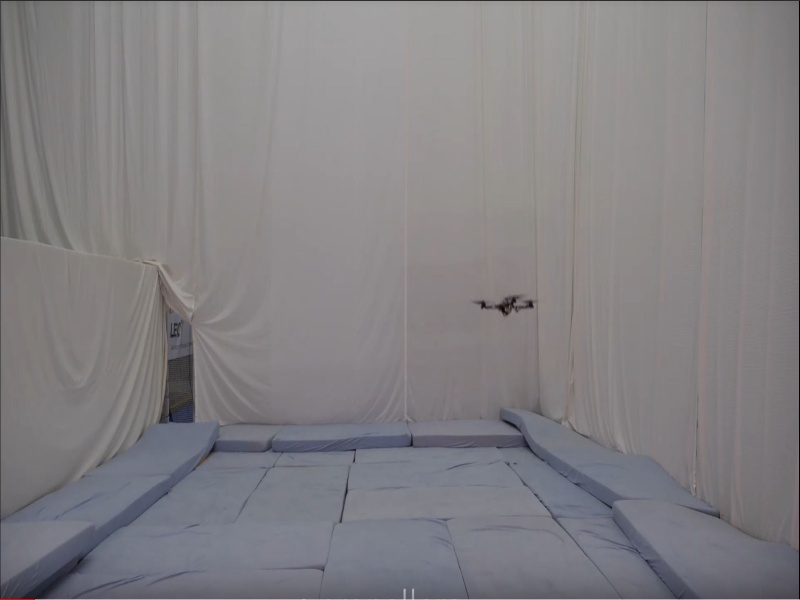drone: (471, 290, 541, 319)
